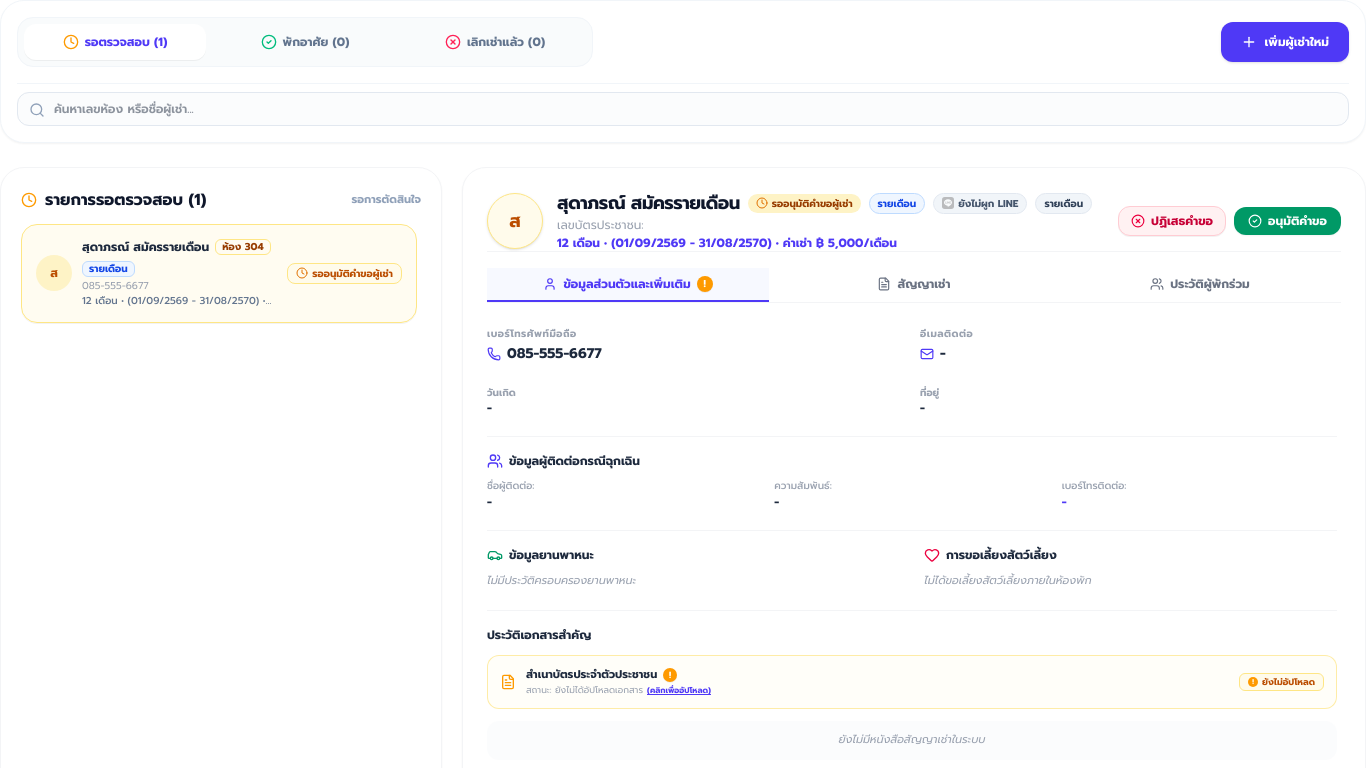
Scenario: Tenant Phase 3 Step 3C.5B: Thai-Only Labels, Contract Tab Rules & Approval Parity › 3. Pending Monthly & Term Provisional Lease Presentation › 3.1 Pending Monthly applicant shows Contract tab with Provisional Lease details
This screenshot has width=1366, height=768.
Click the button "สัญญาเช่า".
click(914, 284)  # box [773,268,1055,302]
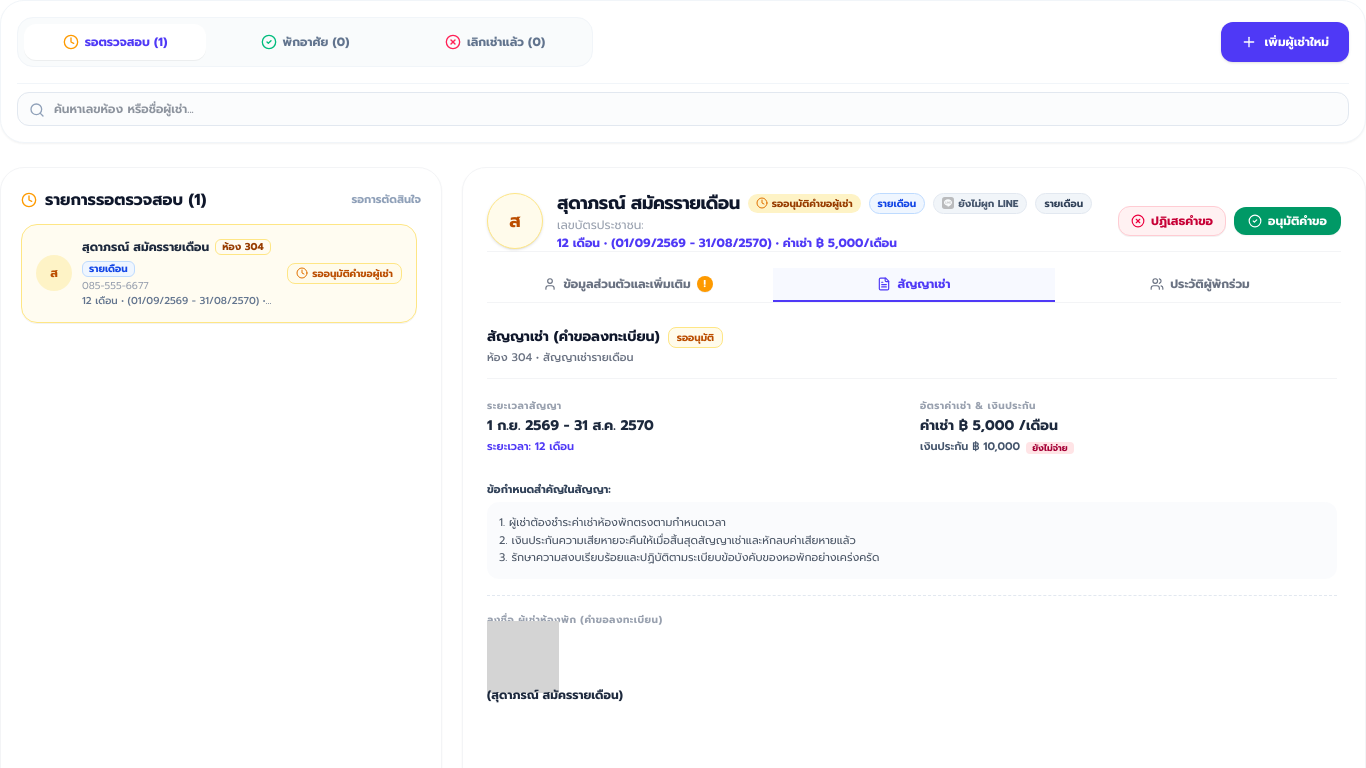
Expected: the text "สัญญาเช่า (คำขอลงทะเบียน)" is shown, [487,327,660,347]
Expected: the text "ห้อง 304 • สัญญาเช่ารายเดือน" is shown, [487,348,634,366]
Expected: the text "ค่าเช่า ฿ 5,000 /เดือน" is shown, [920,415,1058,436]
